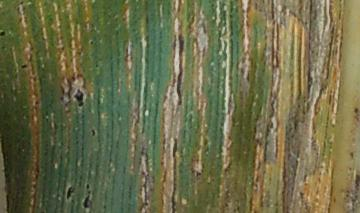tarspot: (64, 182, 76, 205), (73, 88, 86, 108), (82, 196, 94, 210), (19, 61, 30, 71), (89, 129, 98, 137), (88, 39, 96, 48), (84, 182, 94, 189), (1, 29, 6, 40), (86, 190, 92, 195)
